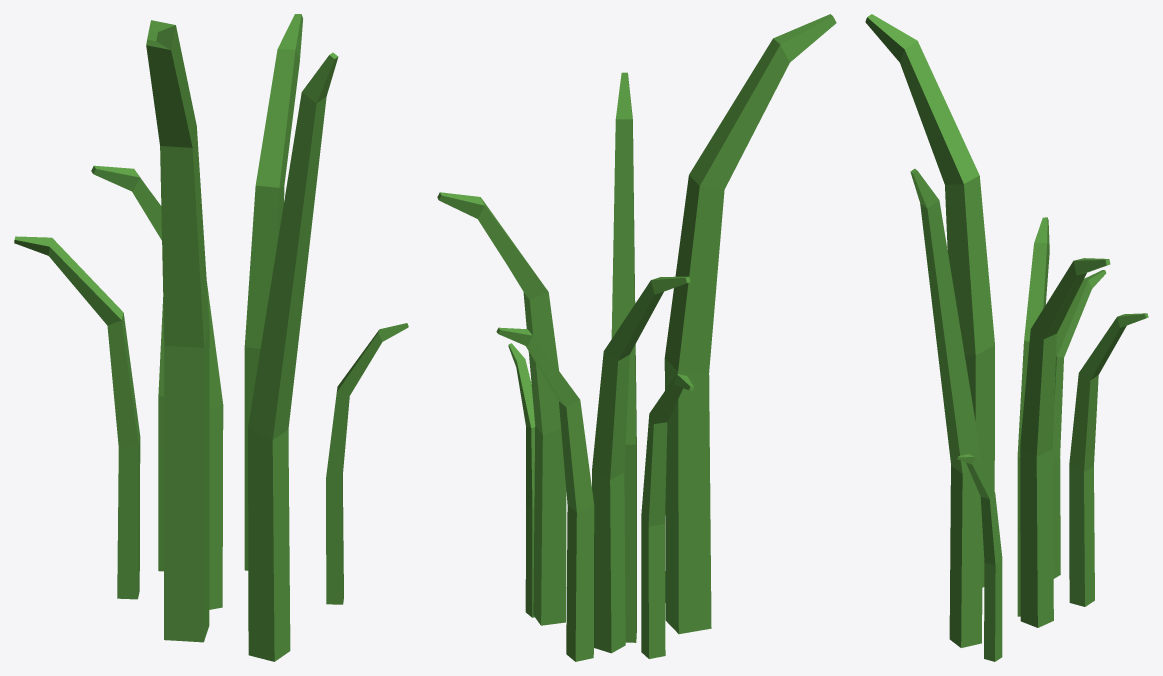
The model's file is PondGrass04.fbx.
3 views of the same model, side by side, from view 1: azimuth 30°, elevation 25°; view 2: azimuth 150°, elevation 25°; view 3: azimuth 270°, elevation 25° (orthographic). The views are drawn at different scales.
Visible parts, largest first — view 1: Cube.025, Cube.019, Cube.020, Cube.024, Cube.021, Cube.023, Cube.022; view 2: Cube.025, Cube.020, Cube.021, Cube.022, Cube.019, Cube.024, Cube.023; view 3: Cube.025, Cube.019, Cube.020, Cube.022, Cube.023, Cube.024, Cube.021.
Part boxes in pixels (x1,y1,x2,y2): Cube.025: [146, 20, 209, 642]; Cube.019: [248, 52, 338, 661]; Cube.020: [244, 14, 302, 570]; Cube.024: [14, 236, 140, 599]; Cube.021: [91, 165, 223, 609]; Cube.023: [326, 323, 408, 604]; Cube.022: [158, 297, 164, 571]; Cube.025: [664, 14, 836, 634]; Cube.020: [437, 192, 566, 625]; Cube.021: [592, 276, 690, 653]; Cube.022: [496, 327, 594, 661]; Cube.019: [611, 72, 636, 642]; Cube.024: [641, 374, 693, 658]; Cube.023: [508, 343, 535, 617]; Cube.025: [865, 14, 994, 587]; Cube.019: [910, 168, 982, 647]; Cube.020: [1020, 258, 1110, 627]; Cube.022: [1069, 313, 1148, 606]; Cube.023: [957, 454, 1002, 661]; Cube.024: [1052, 270, 1106, 578]; Cube.021: [1017, 217, 1049, 616].
Size of the model in its own units: 102 by 217 by 99.62.
